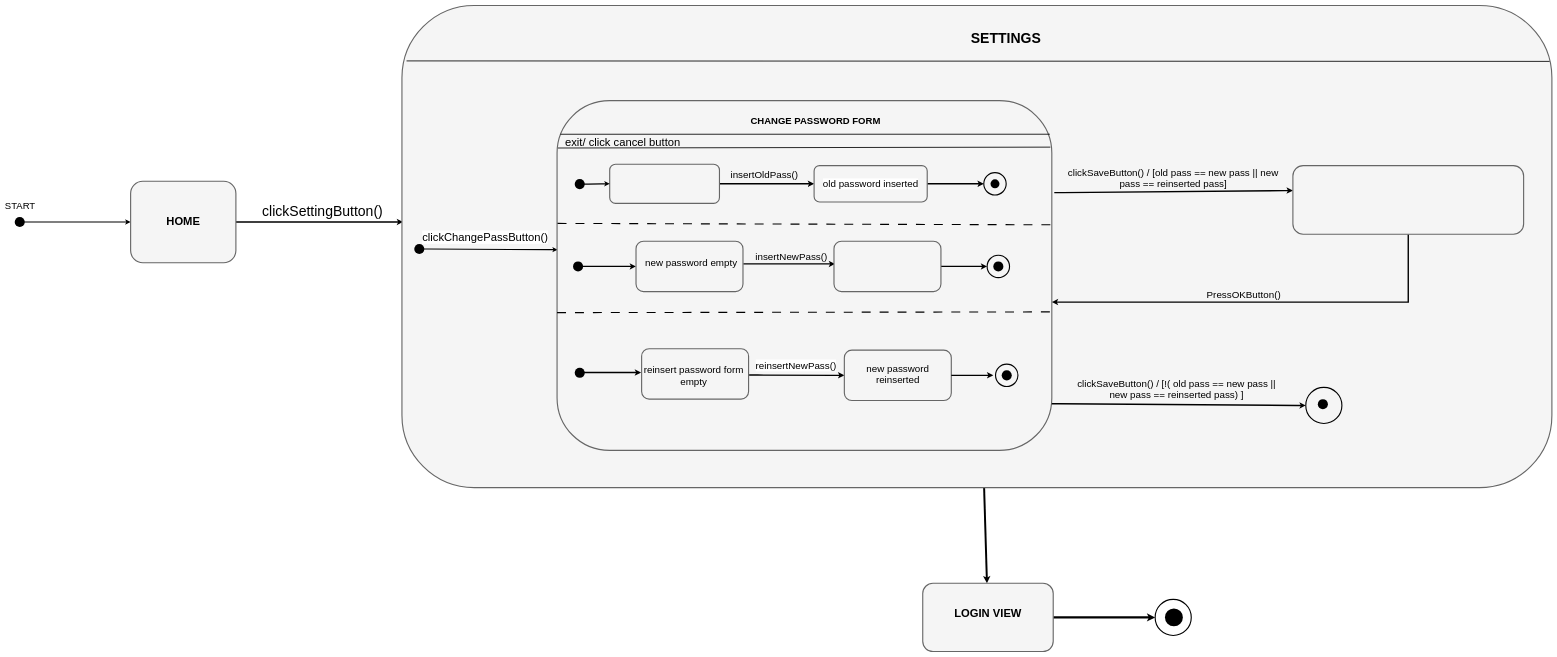
This 1557x657 diagram has some shape labels left out. The shapes that lost their labels are listed below. From the top down, each one's centre as x and y in pixels, then its label:
At [664,184]: "old password empty".
At [1408,200]: "ERROR BANNER".
At [887,266]: "new password inserted".
